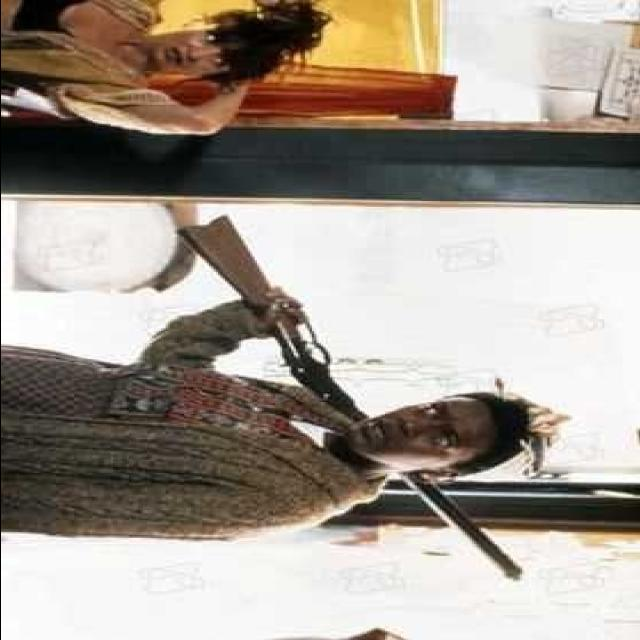heavyweapon: (148, 211, 532, 588)
